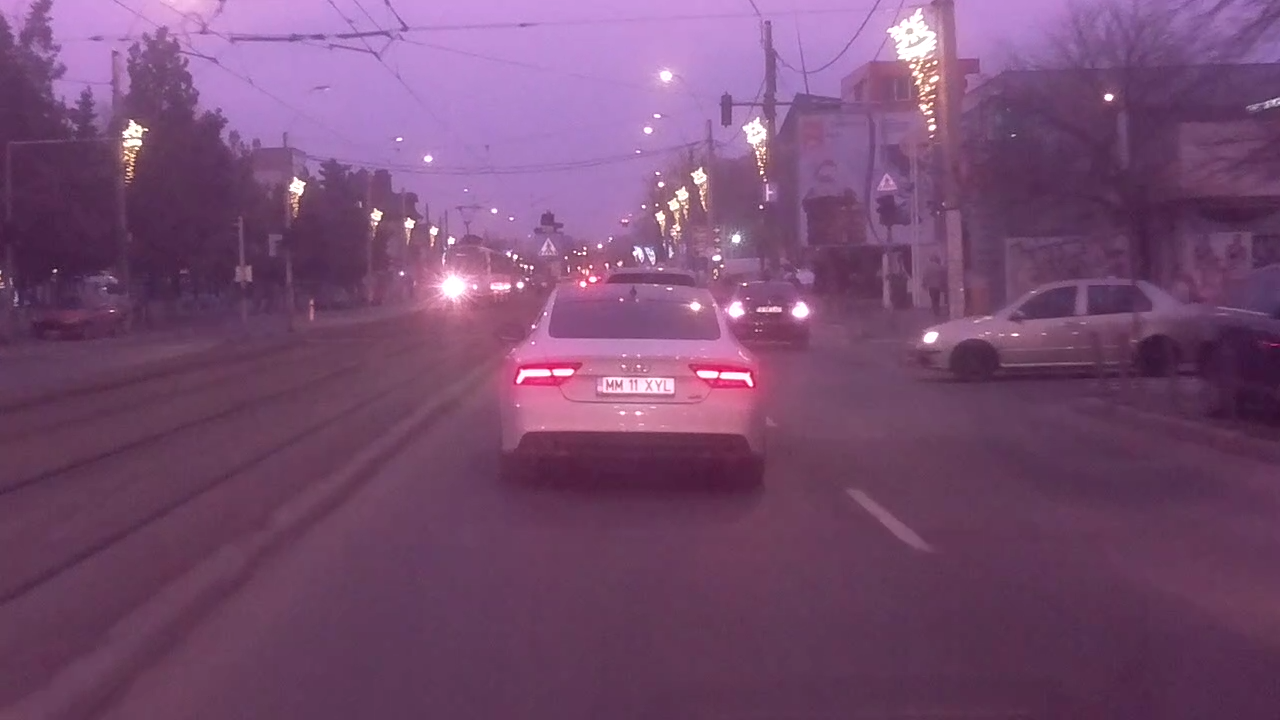license-plate: (590, 371, 680, 398)
